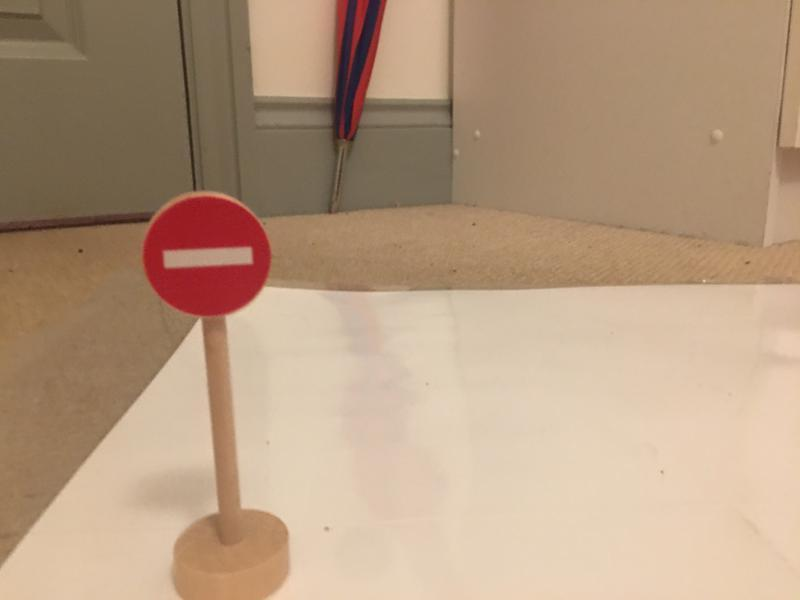Traffic_Sign_No_Entry: (144, 196, 270, 314)
